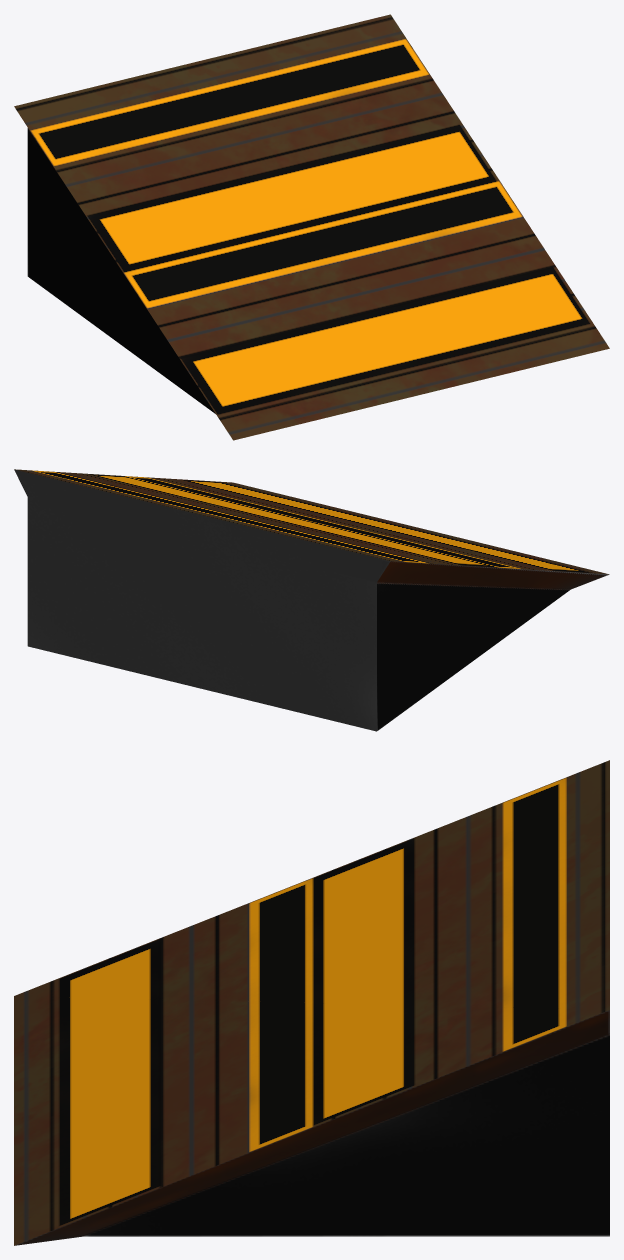
File: ramp.fbx
3 renders of one model, top to bottom at view 1: azimuth 30°, elevation 25°; view 2: azimuth 150°, elevation 25°; view 3: azimuth 270°, elevation 25°, orthographic. The views are drawn at different scales.
Parts seen in each view (by area): view 1: Ramp; view 2: Ramp; view 3: Ramp.
Boxes of the visible parts, x1,y1,x2,y2 form: Ramp: [14, 14, 609, 440]; Ramp: [14, 469, 609, 731]; Ramp: [14, 760, 609, 1245].
Bounding box in the file's own units: 1.98 × 0.8739 × 2.
